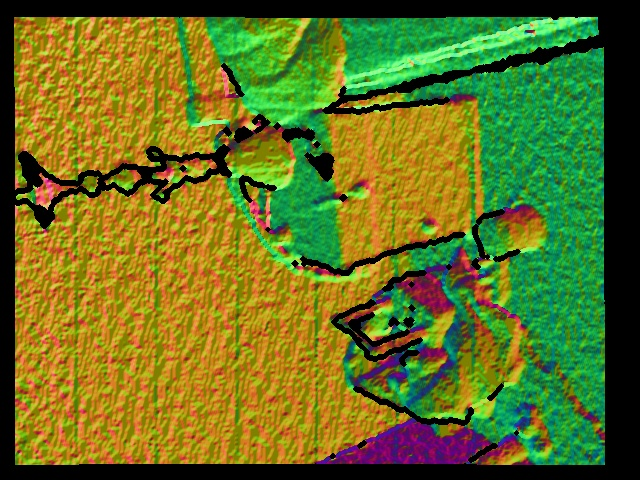station: (333, 271, 458, 355)
